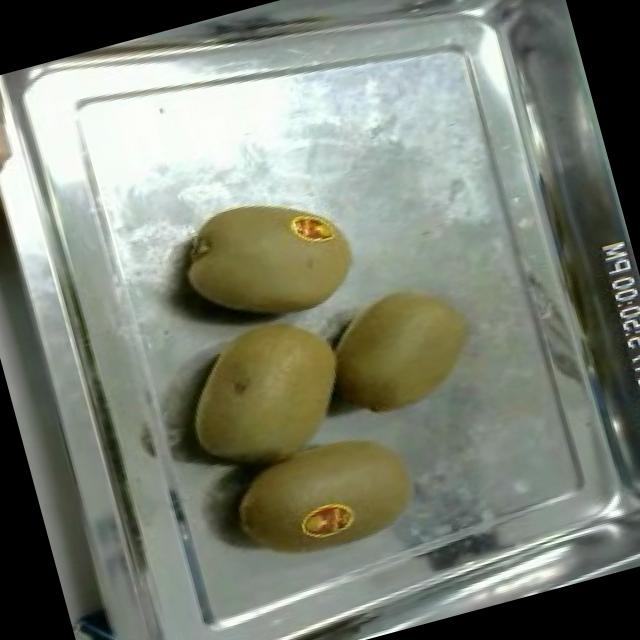Fruit: (160, 293, 368, 487), (162, 170, 374, 347), (209, 412, 433, 574), (311, 264, 494, 431), (0, 71, 54, 252)
